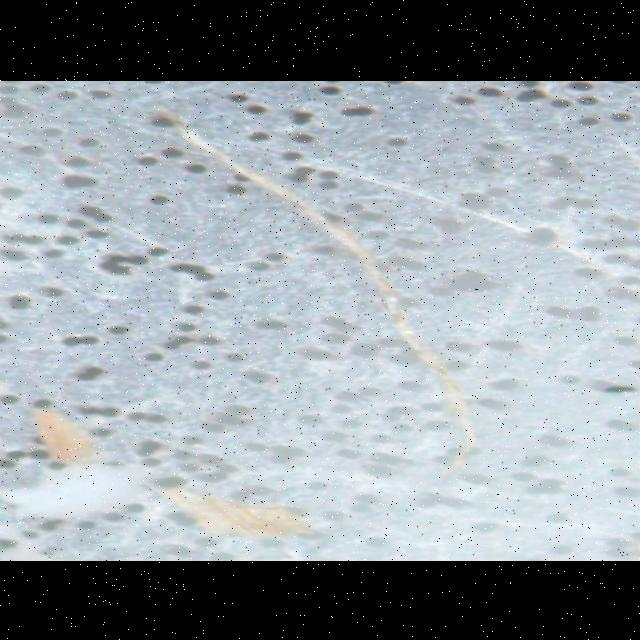Fibre: (142, 100, 510, 478), (21, 406, 317, 548)
